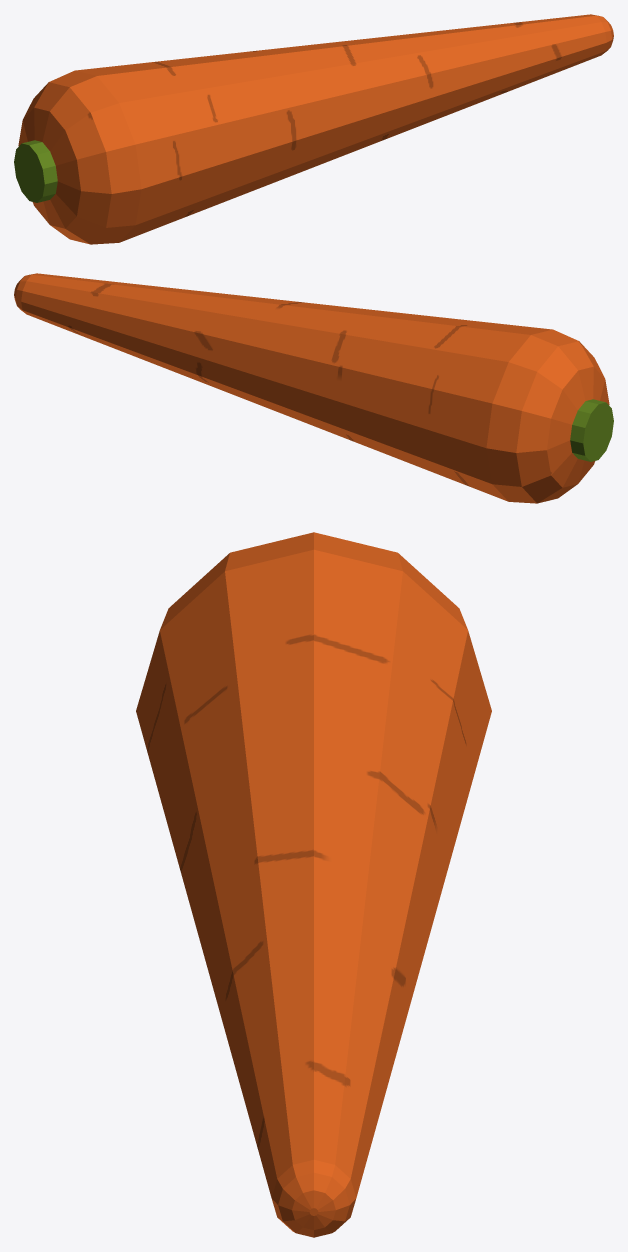
Rendered from Carrot.fbx.
The picture shows the model from 3 angles, top to bottom: view 1: azimuth 30°, elevation 25°; view 2: azimuth 150°, elevation 25°; view 3: azimuth 270°, elevation 25°; orthographic projection. The views are drawn at different scales.
Parts seen in each view (by area): view 1: Cone; view 2: Cone; view 3: Cone.
Boxes of the visible parts, <box> form: Cone: <box>14,14,613,244</box>; Cone: <box>14,273,613,503</box>; Cone: <box>136,532,491,1237</box>.
Size of the model in its own units: 0.1739 by 0.0462 by 0.0462.
2 materials, 1 textured.
